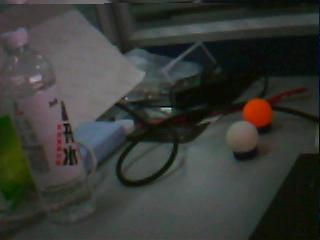oball: (242, 99, 271, 122)
